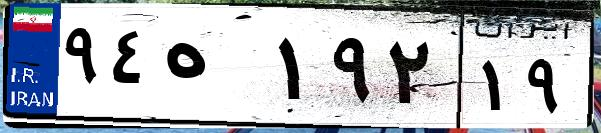1: (270, 28, 330, 110), (475, 38, 525, 113)
2: (385, 28, 445, 110)
4: (110, 28, 158, 98)
9: (330, 28, 385, 110), (57, 26, 110, 100), (525, 38, 570, 115)
ه: (158, 20, 270, 120)
